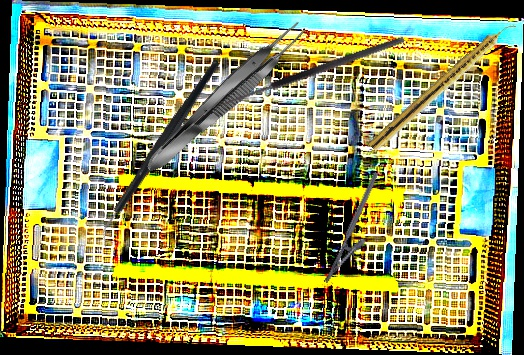Chopper: (52, 58, 269, 250)
Handpiece: (367, 17, 519, 155)
Hook Surgical: (216, 34, 409, 120)
Needle Holder: (322, 171, 395, 291)
Tissue Forceps: (138, 15, 312, 180)
